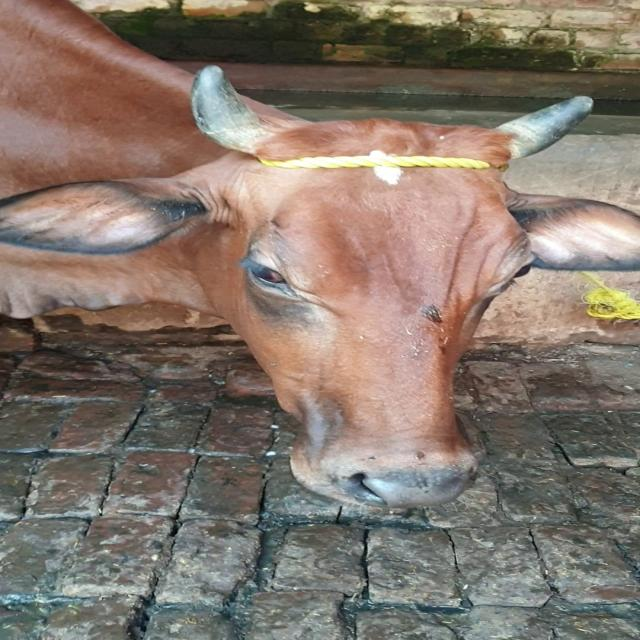cowFace: (215, 133, 572, 519)
